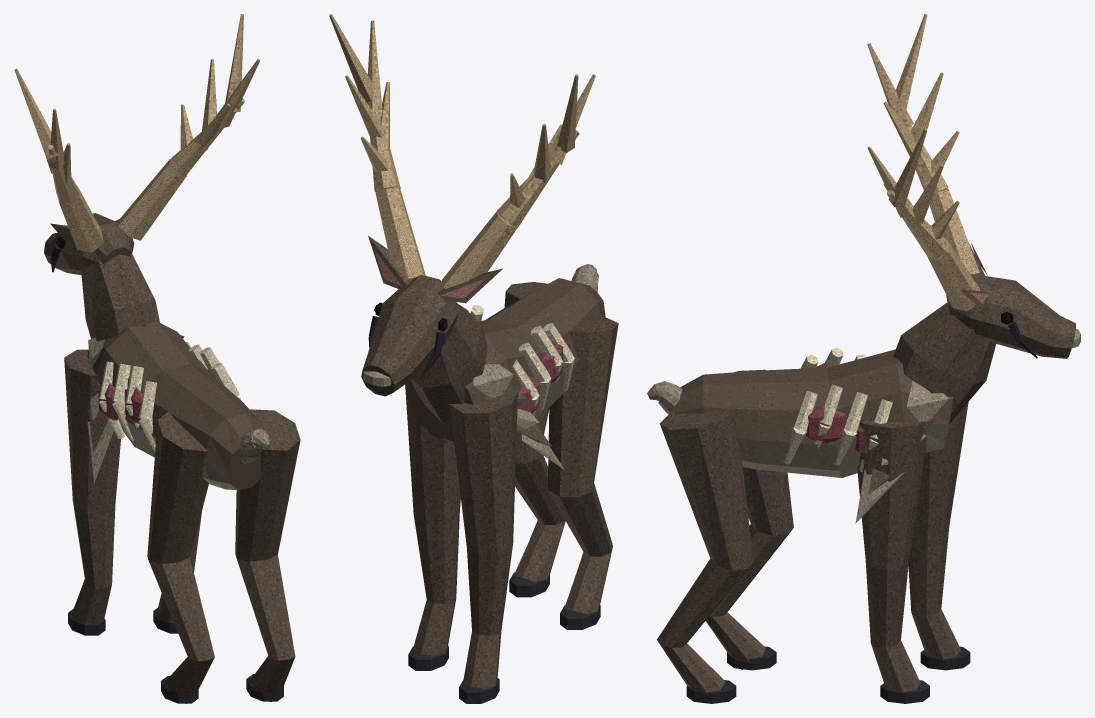
Rendered from mon_zeindeer.glb.
The picture shows the model from 3 angles, left to right: view 1: azimuth 30°, elevation 25°; view 2: azimuth 150°, elevation 25°; view 3: azimuth 270°, elevation 25°; orthographic projection. The views are drawn at different scales.
Visible parts, largest first — view 1: closed_body; view 2: closed_body; view 3: closed_body.
Boxes of the visible parts, x1=… form: closed_body: x1=14, y1=14, x2=300, y2=703; closed_body: x1=329, y1=14, x2=618, y2=703; closed_body: x1=647, y1=14, x2=1080, y2=703.
Bounding box in the file's own units: 2.11 × 5.19 × 3.33.
1 material, 1 textured.
